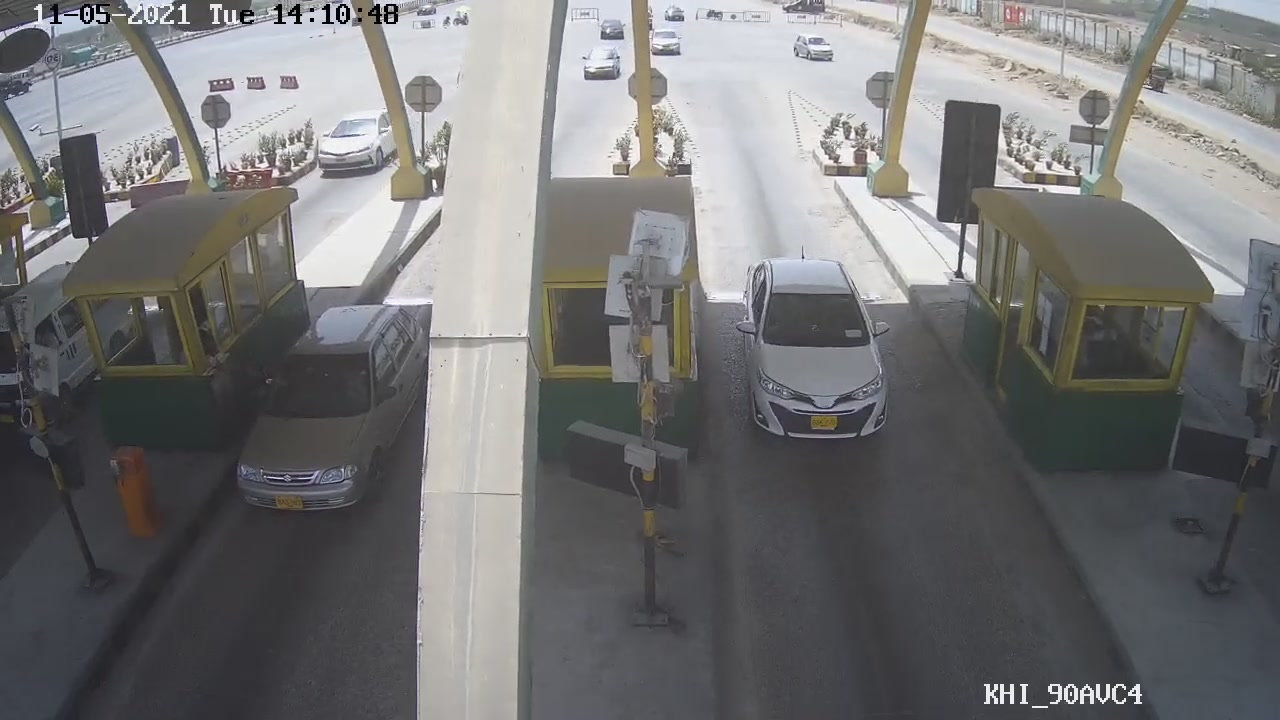F1: (726, 251, 898, 444)
